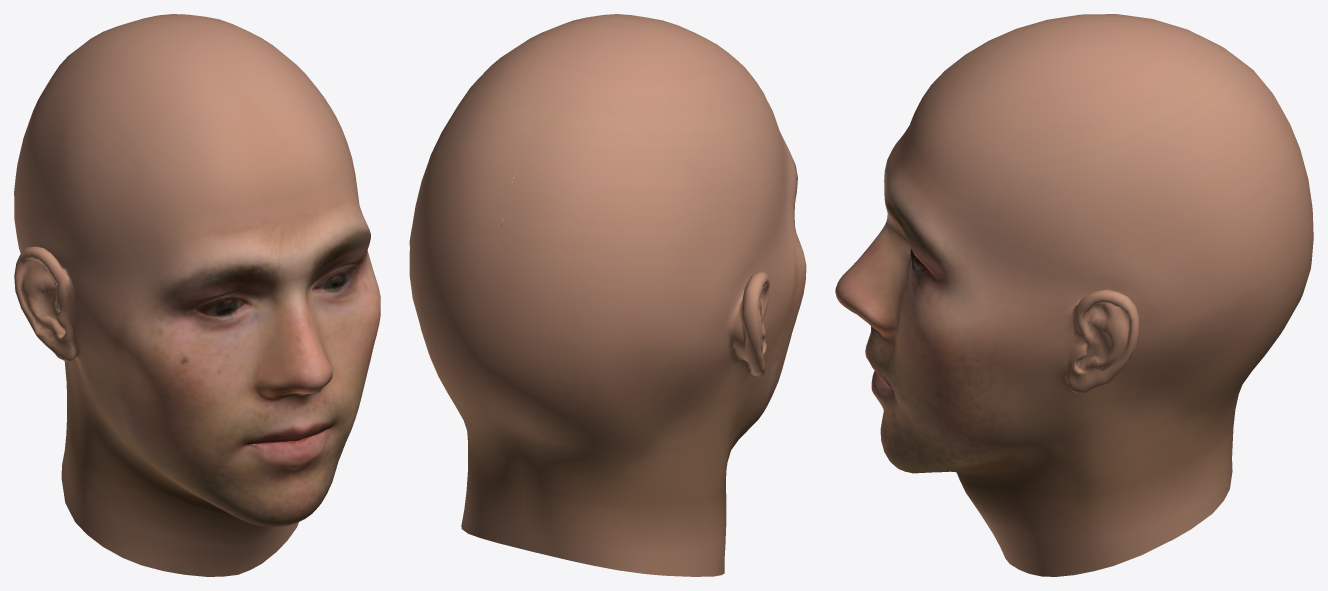
The picture shows the model from 3 angles, left to right: view 1: azimuth 30°, elevation 25°; view 2: azimuth 150°, elevation 25°; view 3: azimuth 270°, elevation 25°; orthographic projection. The views are drawn at different scales.
Parts seen in each view (by area): view 1: HeadHires; view 2: HeadHires; view 3: HeadHires.
Part boxes in pixels (box(x1,y1,x2,y2)): HeadHires: box(14, 14, 380, 576); HeadHires: box(409, 14, 806, 576); HeadHires: box(835, 14, 1313, 576).
Bounding box in the file's own units: 188 × 283 × 234.
1 material, 1 textured.
